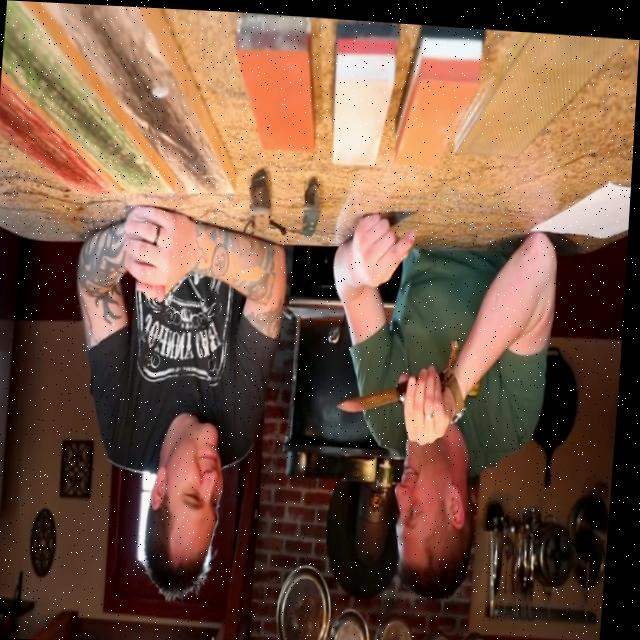knife: (334, 355, 410, 432), (248, 164, 275, 231), (303, 179, 322, 233)
